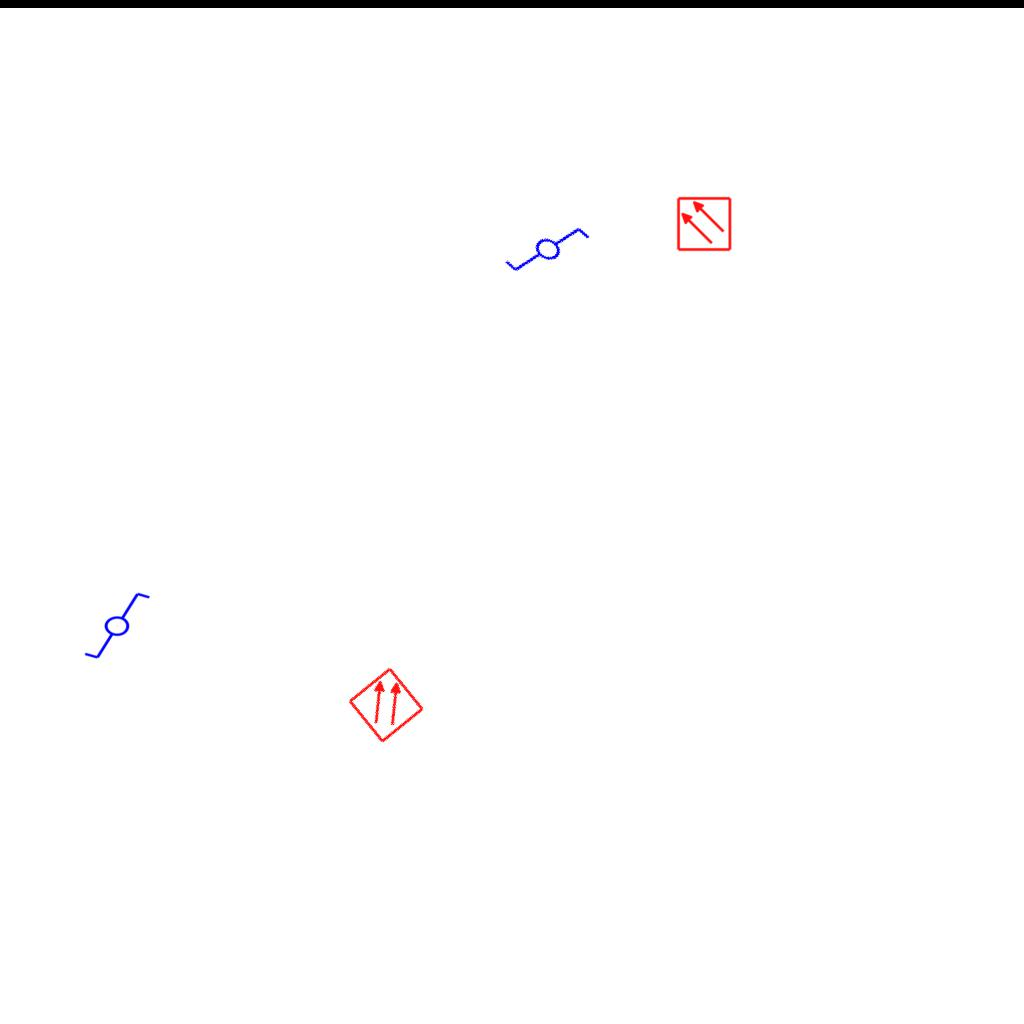RMO_Rauchmelder_optischer: (346, 665, 426, 745), (676, 196, 732, 252)
Wechselschalter: (500, 202, 602, 302), (74, 589, 152, 661)
